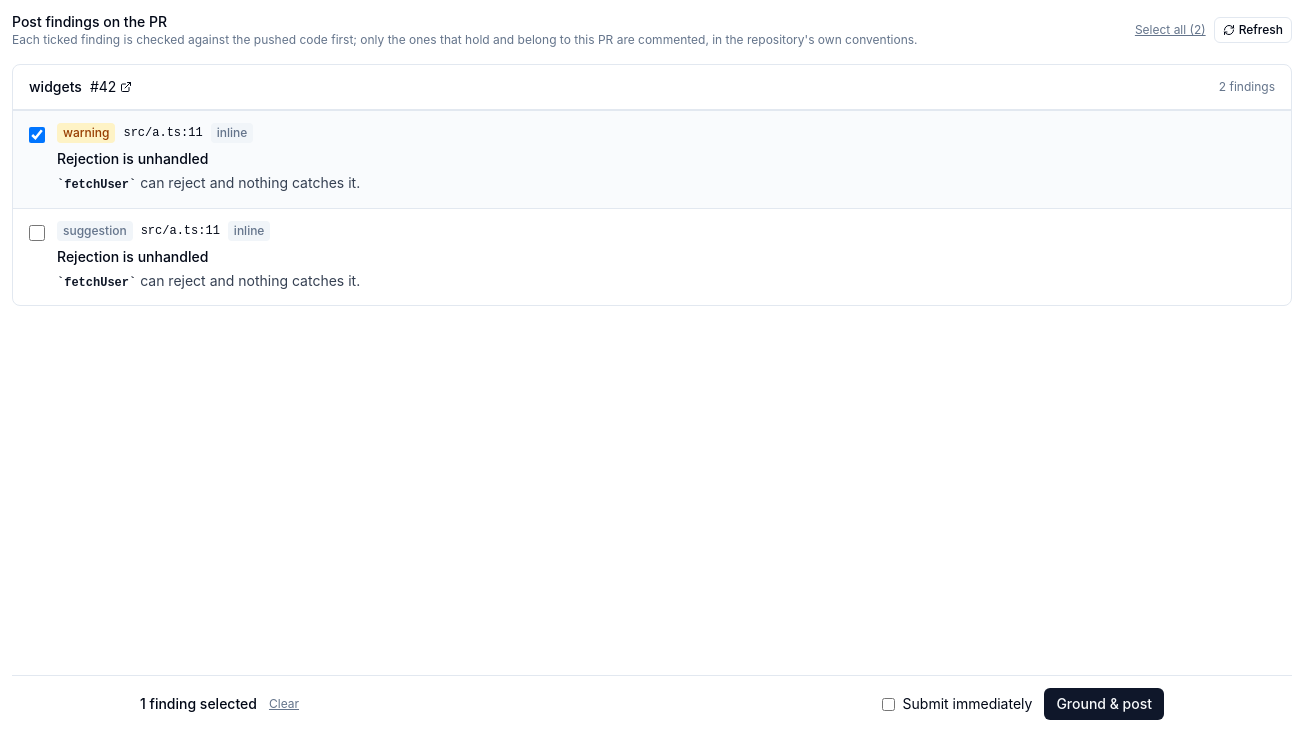
ReviewFindingsList › the select-all toggle › offers to select everything postable, counted
Click the button "Select all (2)": (1170, 30) x1=1135 y1=22 x2=1206 y2=38
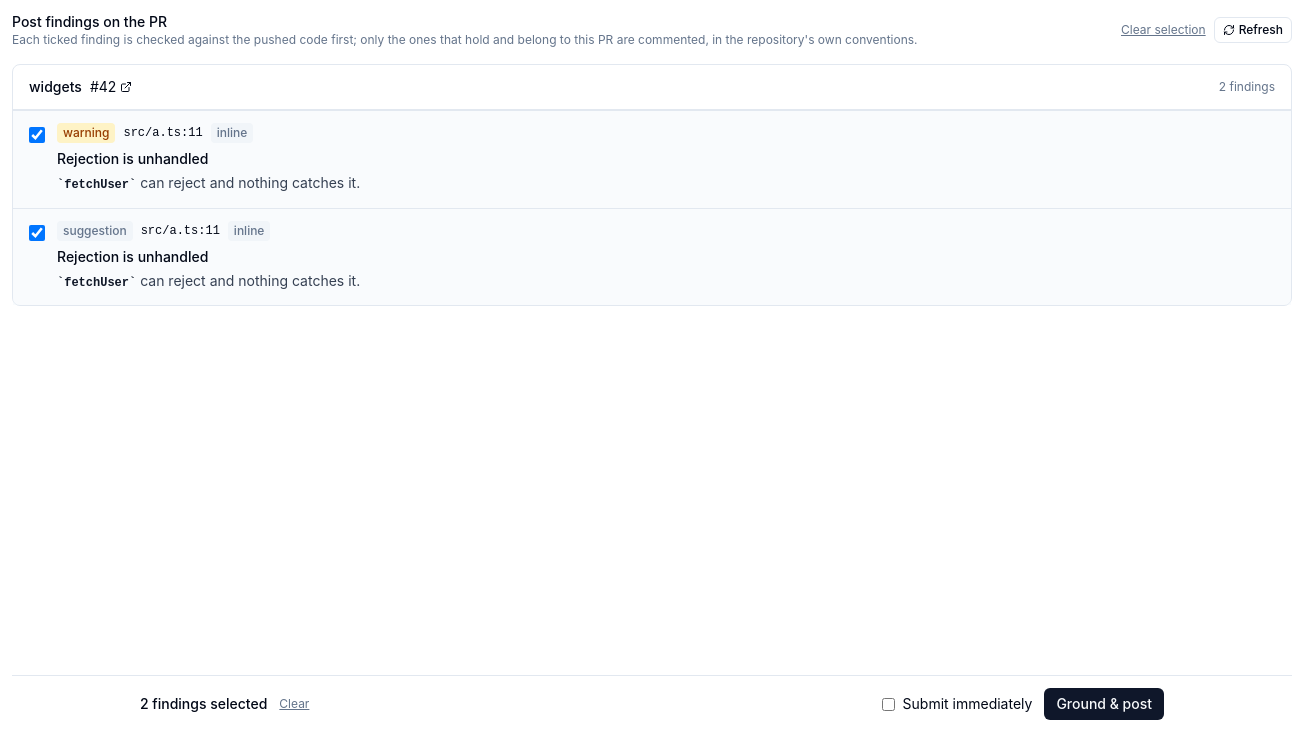
Expected: the text "2 findings selected" is shown, x1=140 y1=694 x2=267 y2=714
